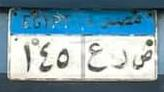1: (22, 40, 32, 74)
4: (39, 41, 53, 74)
5: (55, 48, 74, 71)
ain: (86, 40, 104, 74)
raa: (112, 48, 129, 71)
saad: (131, 47, 154, 73)
